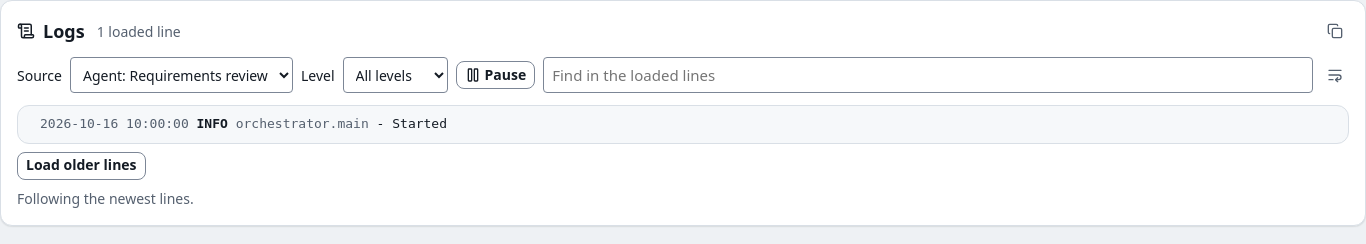
Test case: LogsView › stops following on Pause
Click the button "Pause": (495, 75) [456,61,535,89]
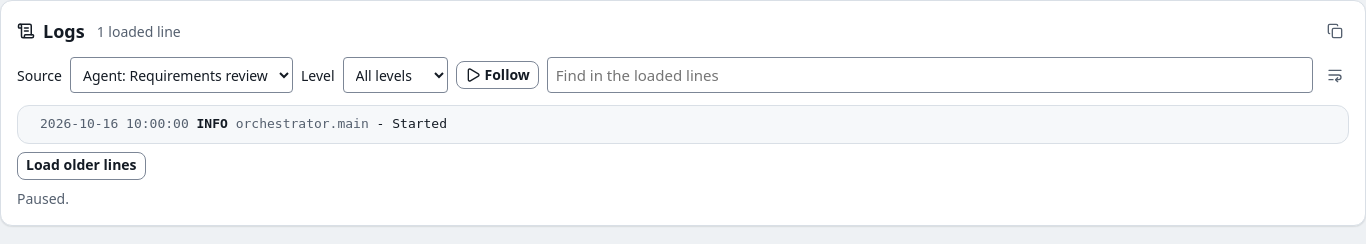
Check: the button "Follow" is shown, box [456,61,539,89]
Check: the text "Paused." is shown, box [17,189,69,208]
